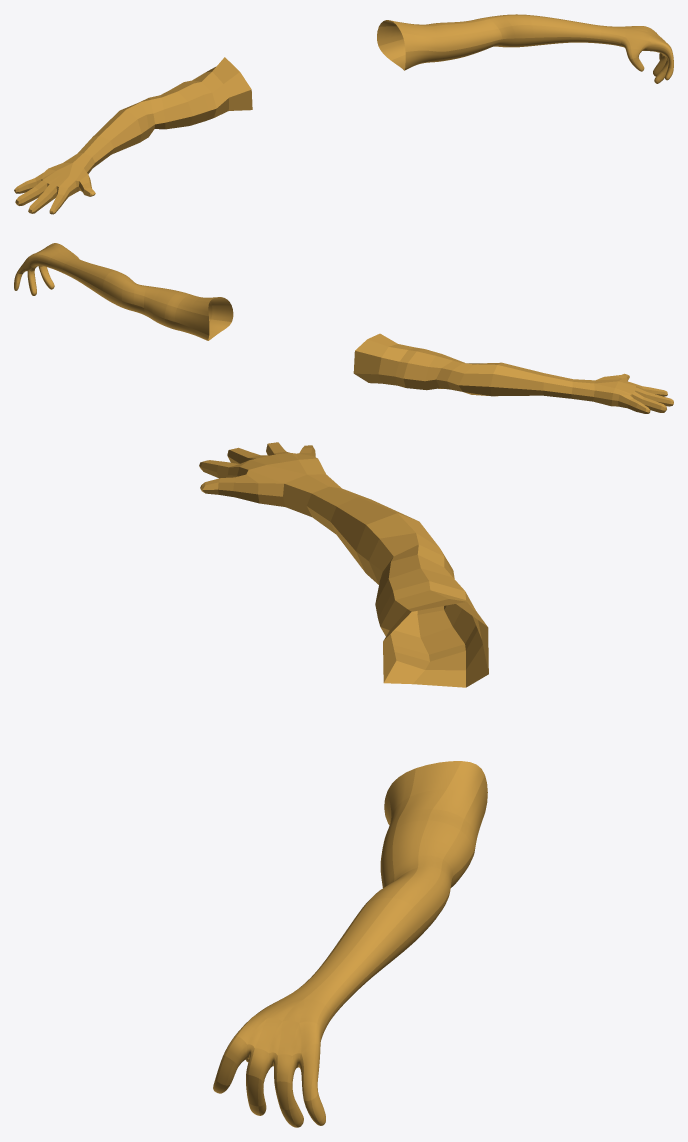
File: ManosCris.fbx
3 renders of one model, top to bottom at view 1: azimuth 30°, elevation 25°; view 2: azimuth 150°, elevation 25°; view 3: azimuth 270°, elevation 25°, orthographic. The views are drawn at different scales.
Visible parts, largest first — view 1: CharacterModel.001, ManoIz; view 2: CharacterModel.001, ManoIz; view 3: ManoIz, CharacterModel.001.
Boxes of the visible parts, x1,y1,x2,y2 form: CharacterModel.001: (14,57,252,214); ManoIz: (377,14,673,83); CharacterModel.001: (353,333,673,413); ManoIz: (14,243,233,340); ManoIz: (213,761,487,1127); CharacterModel.001: (199,442,488,687).
Size of the model in its own units: 734 by 86.8 by 144.
